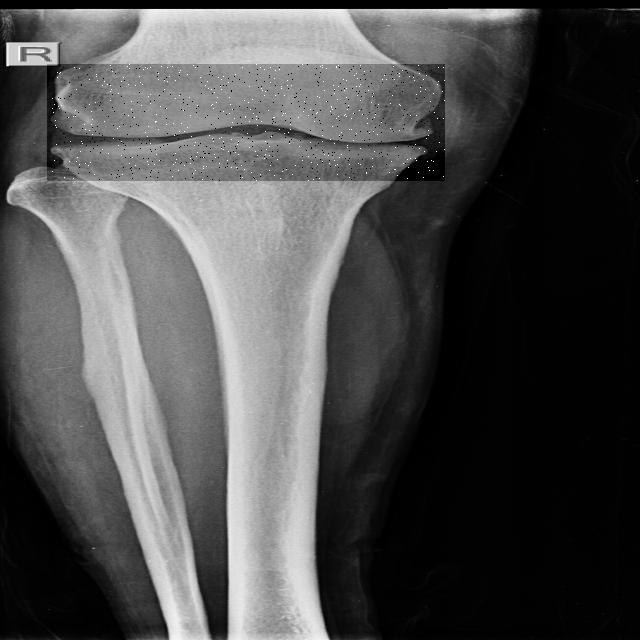normal: (47, 64, 445, 181)
